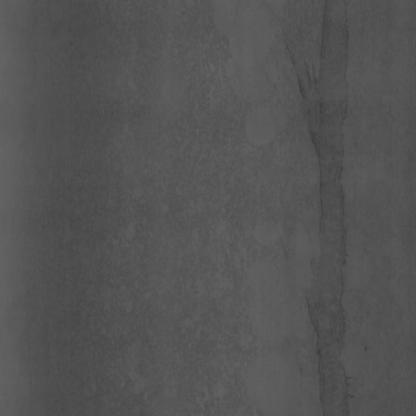water_spot: (292, 9, 355, 396)
